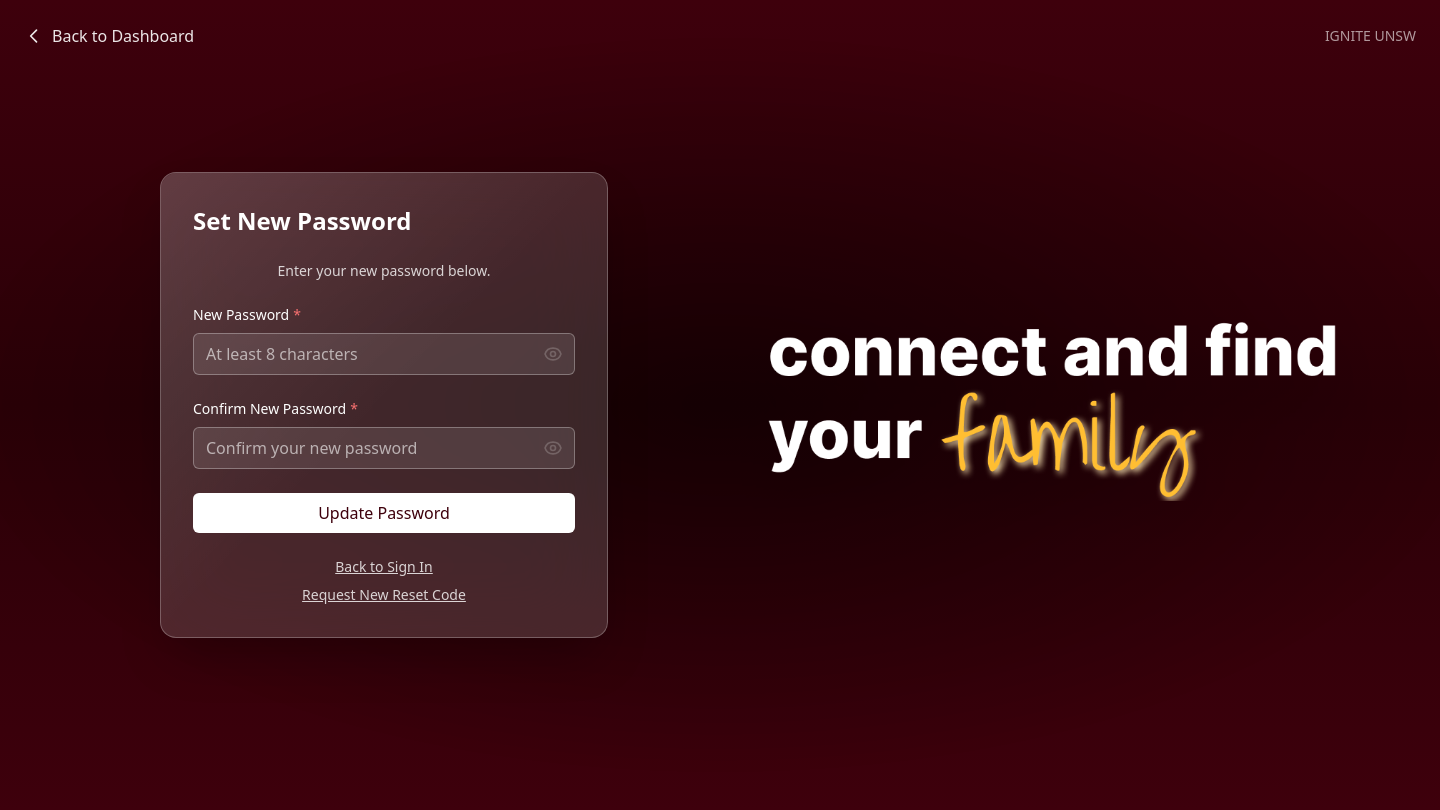
Scenario: ResetPassword › shows validation error for mismatched passwords
Type "password123" into the password field labelled "New Password*" at (384, 354), box [193, 333, 575, 375]
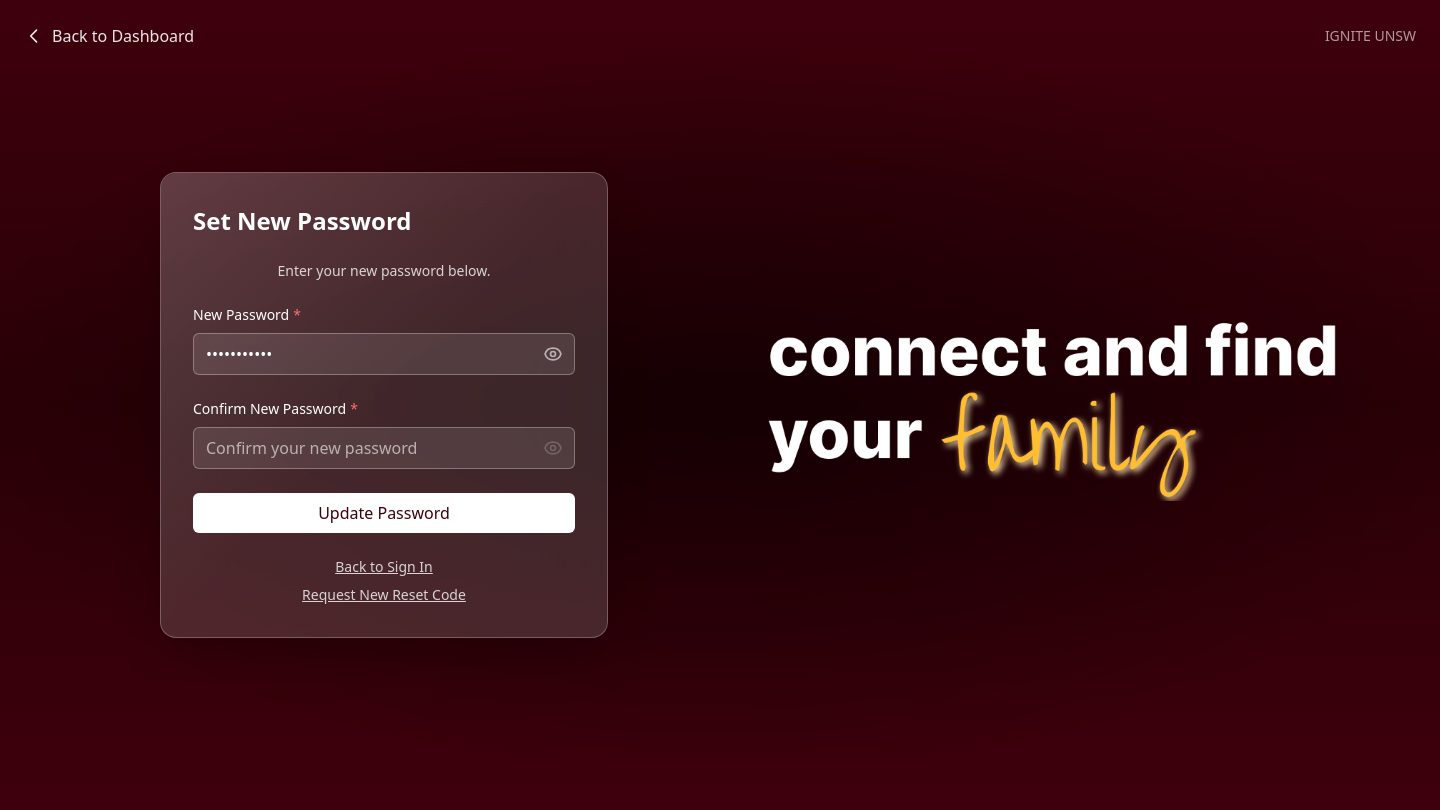
Type "different123" into the password field labelled "Confirm New Password*" at (384, 448), box [193, 427, 575, 469]
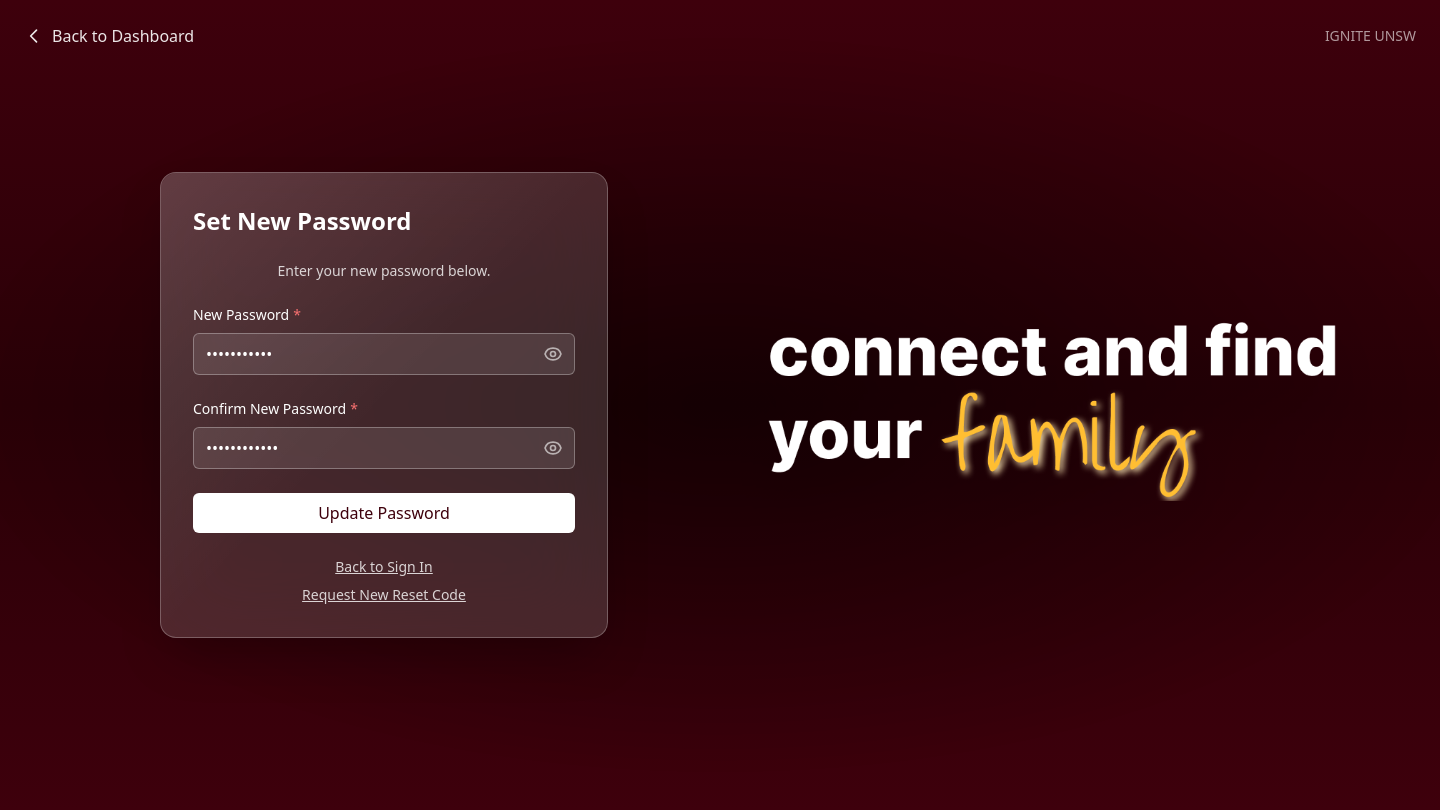
Click the button "Update Password" at (384, 513), box [193, 493, 575, 533]
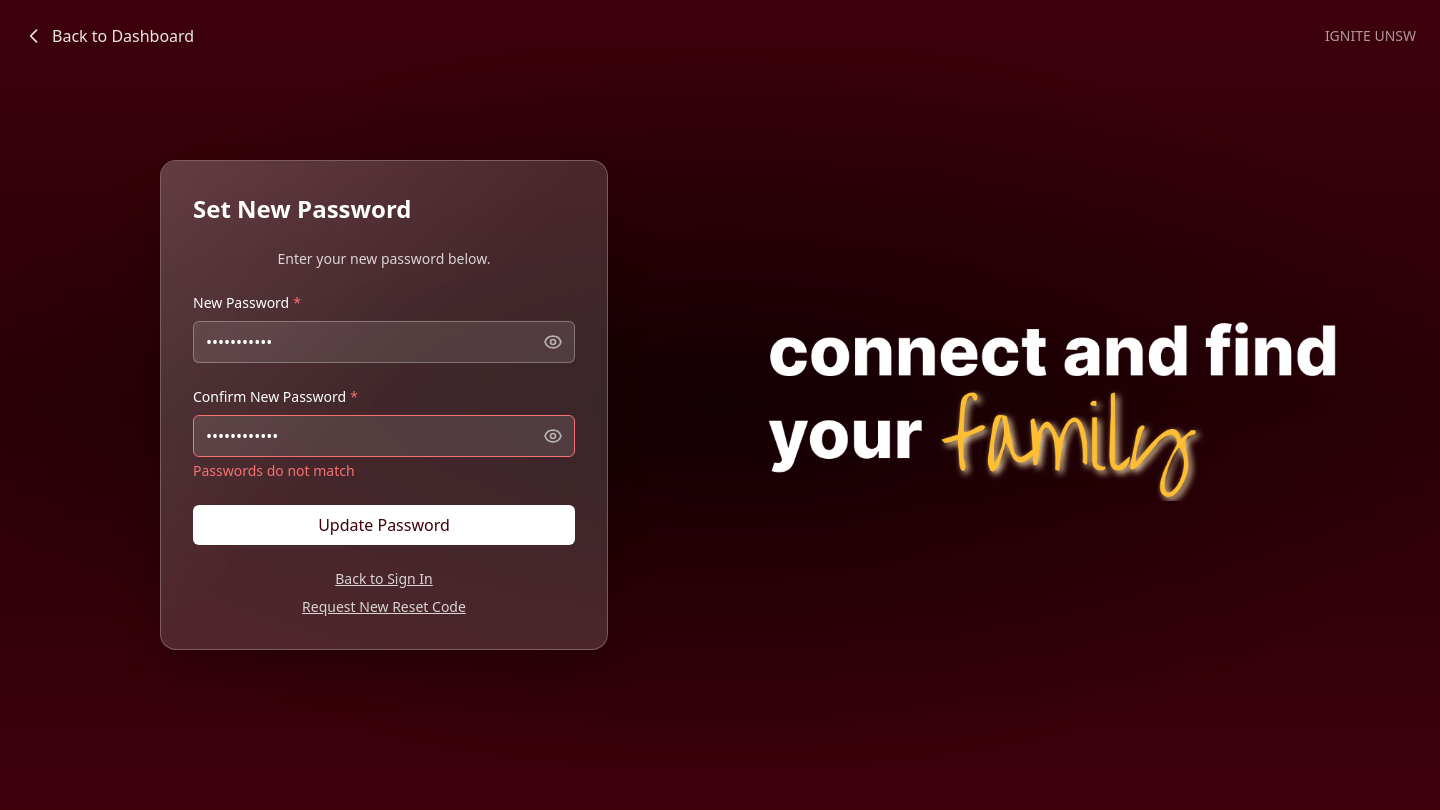
Expected: the text "Passwords do not match" is shown, [193, 461, 355, 480]
